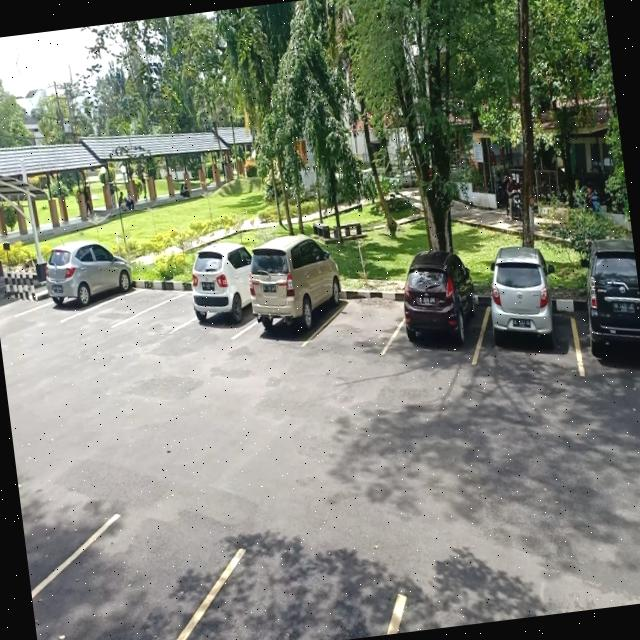empty: (318, 277, 406, 361), (94, 286, 160, 330), (152, 290, 199, 336)
occupied: (474, 265, 580, 364), (240, 255, 346, 348), (396, 263, 485, 364), (43, 248, 138, 314), (186, 254, 254, 344)
